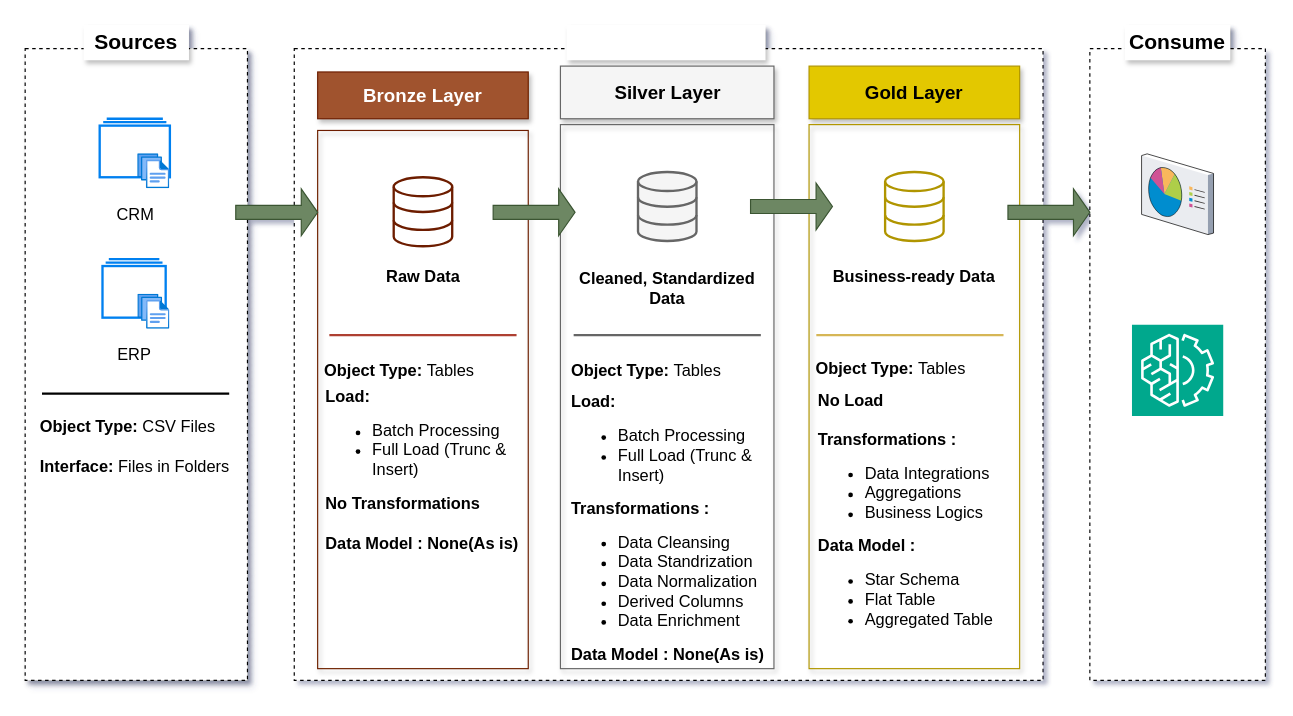
Some shapes in this 1293 by 716 pixel diagram are drawn without their labels. Each missing label, with the centre of its shape:
Data Warehouse: [666,44]
Machine Learning: [1177,370]
Reporting: [1177,193]
